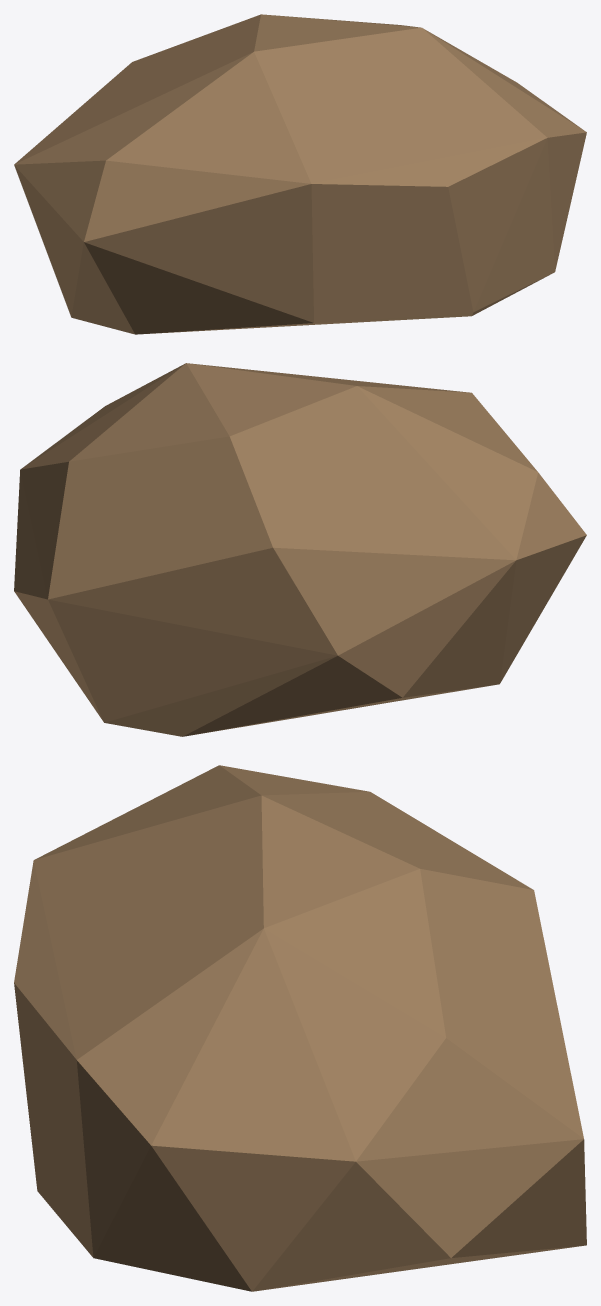
File: SM_Envr_Nature_Farm_Vegetable_Potato_02.fbx
3 renders of one model, top to bottom at view 1: azimuth 30°, elevation 25°; view 2: azimuth 150°, elevation 25°; view 3: azimuth 270°, elevation 25°, orthographic. The views are drawn at different scales.
Parts seen in each view (by area): view 1: SM_Envr_Nature_Farm_Vegetable_Potato_02; view 2: SM_Envr_Nature_Farm_Vegetable_Potato_02; view 3: SM_Envr_Nature_Farm_Vegetable_Potato_02.
Boxes of the visible parts, x1,y1,x2,y2 form: SM_Envr_Nature_Farm_Vegetable_Potato_02: (14,14,586,334); SM_Envr_Nature_Farm_Vegetable_Potato_02: (14,363,586,736); SM_Envr_Nature_Farm_Vegetable_Potato_02: (14,765,586,1291).
Size of the model in its own units: 11.08 by 5.88 by 8.31.
